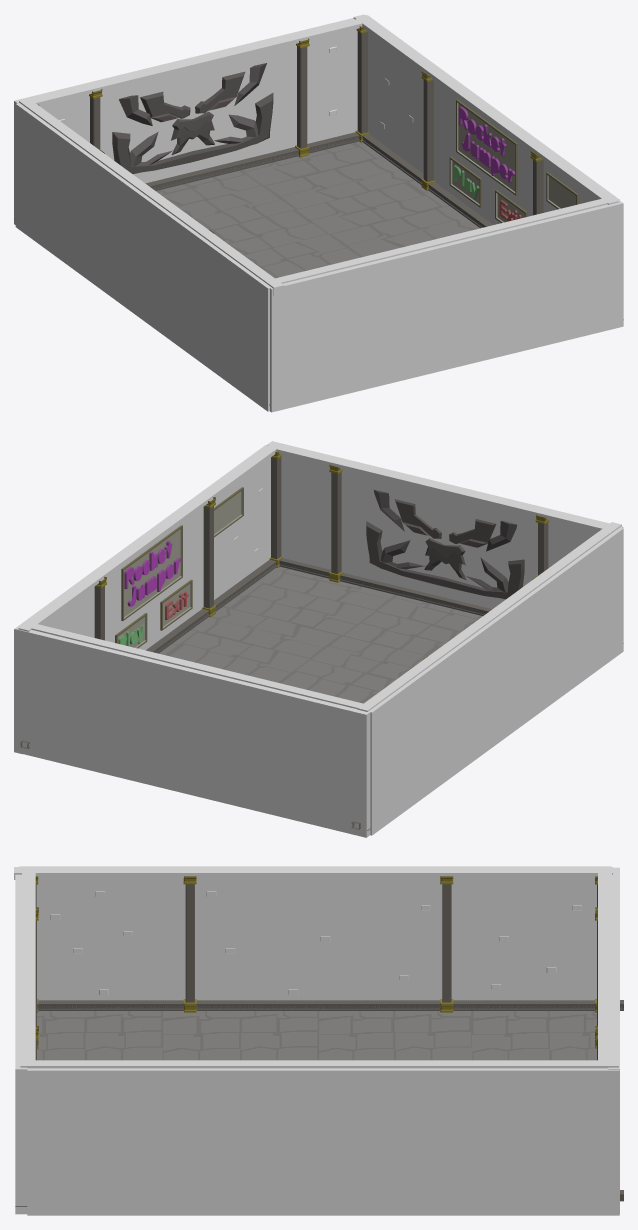
File: start.fbx
3 renders of one model, top to bottom at view 1: azimuth 30°, elevation 25°; view 2: azimuth 150°, elevation 25°; view 3: azimuth 270°, elevation 25°, orthographic. The views are drawn at different scales.
Visible parts, largest first — view 1: Box104, 008, Box105, Box107, Object122, Object123, act002, act, act003, act001; view 2: Box104, 008, Box105, Box108, Object122, Object123, act002, act001, act003, act; view 3: Box104, 008, Box105, Object123, Object122, Object124.
Part boxes in pixels (x1,y1,x2,y2): Box104: [14, 15, 623, 412]; 008: [14, 141, 623, 405]; Box105: [19, 14, 618, 295]; Box107: [112, 63, 273, 173]; Object122: [38, 26, 543, 233]; Object123: [145, 132, 492, 228]; act002: [456, 99, 517, 195]; act: [449, 156, 481, 207]; act003: [546, 172, 578, 209]; act001: [495, 190, 527, 222]; Box104: [14, 441, 623, 837]; 008: [159, 566, 623, 830]; Box105: [18, 442, 621, 711]; Box108: [366, 490, 524, 599]; Object122: [94, 452, 599, 659]; Object123: [20, 558, 491, 829]; act002: [121, 525, 182, 620]; act001: [160, 579, 192, 630]; act003: [214, 487, 243, 537]; act: [115, 613, 147, 648]; Box104: [15, 866, 619, 1215]; 008: [15, 1011, 596, 1206]; Box105: [14, 867, 618, 1068]; Object123: [38, 1000, 623, 1201]; Object122: [35, 876, 597, 1060]; Object124: [50, 891, 581, 994].
Bounding box in the file's own units: 4303 × 1448 × 5446.
